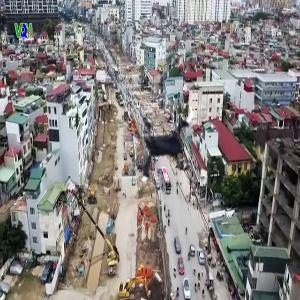drone: (110, 93, 214, 197)
